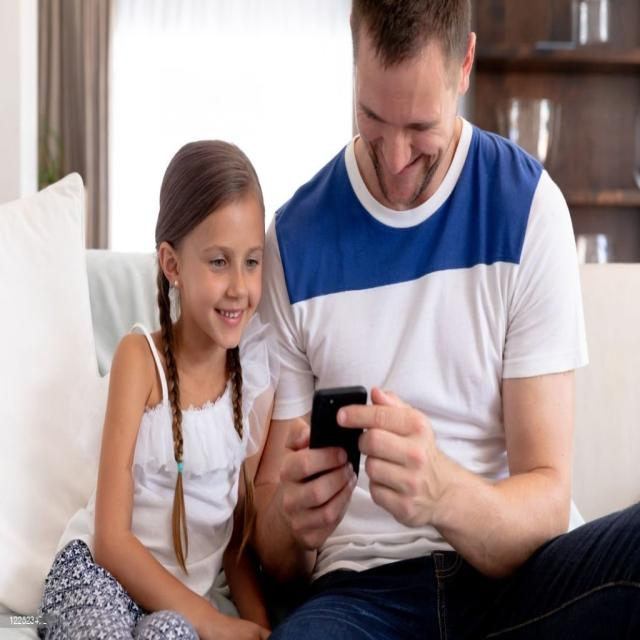phone: (308, 385, 368, 501)
